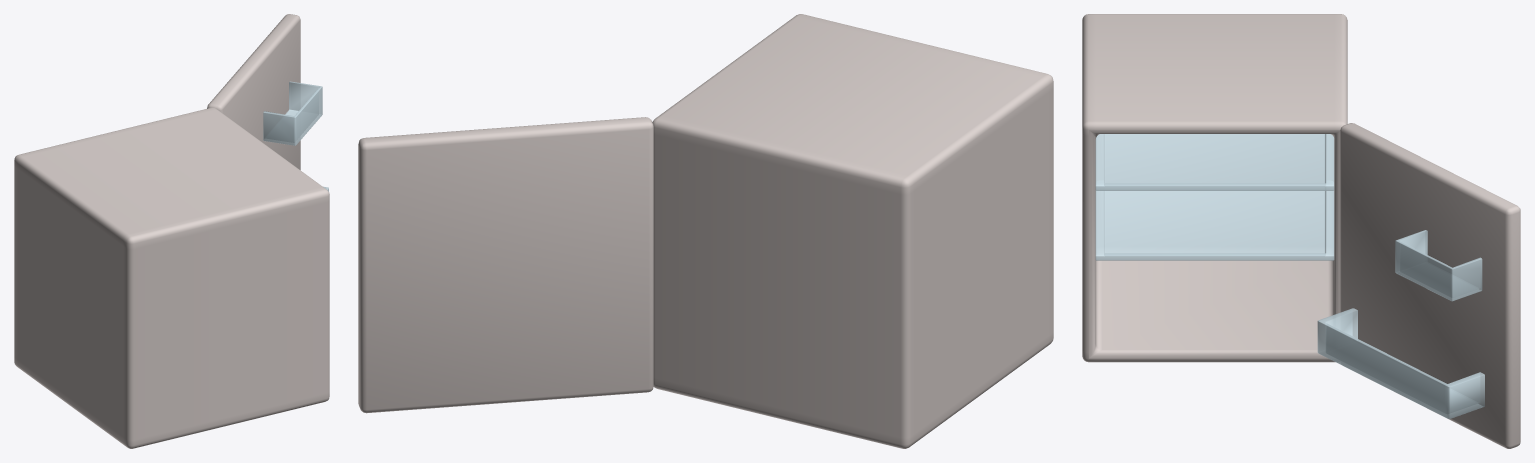
The model's file is Reizoko.fbx.
3 views of the same model, side by side, from view 1: azimuth 30°, elevation 25°; view 2: azimuth 150°, elevation 25°; view 3: azimuth 270°, elevation 25° (orthographic). The views are drawn at different scales.
Parts seen in each view (by area): view 1: 立方体, 平面.002, 立方体.002; view 2: 立方体, 平面.002; view 3: 立方体, 平面.002, 平面.001, 平面, 立方体.001, 立方体.002.
Part boxes in pixels (x1=…): 立方体: x1=14, y1=107, x2=329, y2=448; 平面.002: x1=207, y1=14, x2=300, y2=169; 立方体.002: x1=263, y1=81, x2=322, y2=145; 立方体: x1=652, y1=14, x2=1053, y2=448; 平面.002: x1=358, y1=117, x2=653, y2=413; 立方体: x1=1082, y1=14, x2=1347, y2=362; 平面.002: x1=1340, y1=123, x2=1520, y2=448; 平面.001: x1=1095, y1=190, x2=1334, y2=260; 平面: x1=1095, y1=134, x2=1334, y2=190; 立方体.001: x1=1317, y1=308, x2=1484, y2=419; 立方体.002: x1=1395, y1=230, x2=1482, y2=301.
Bounding box in the file's own units: 3.57 × 2 × 3.31.
